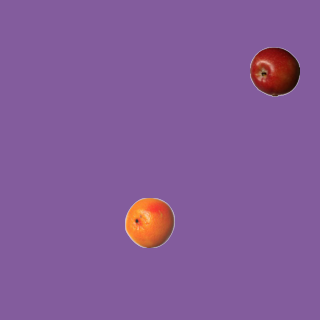Apple Braeburn: (249, 46, 299, 96)
Grapefruit Pink: (124, 197, 174, 247)
